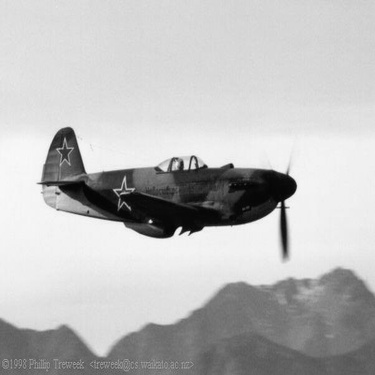airplane: (36, 114, 310, 264)
